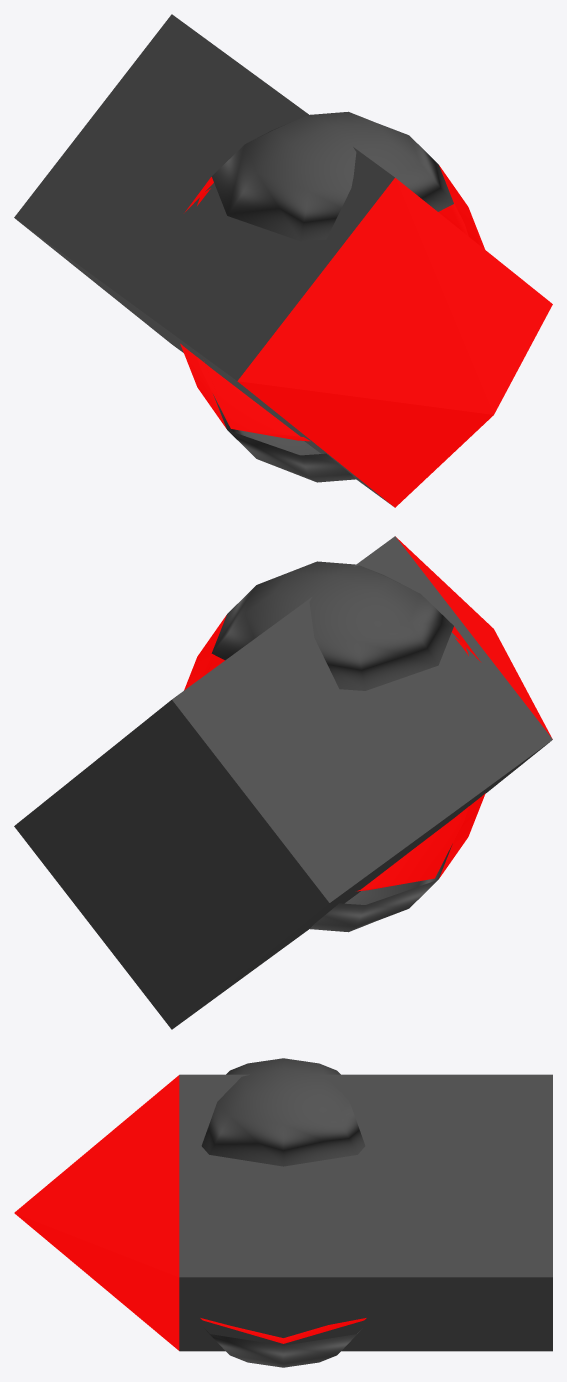
The model's file is projectiles_model.glb.
3 views of the same model, one above another, from view 1: azimuth 30°, elevation 25°; view 2: azimuth 150°, elevation 25°; view 3: azimuth 270°, elevation 25° (orthographic). The views are drawn at different scales.
Visible parts, largest first — view 1: Cylinder, Cube.001, Cube; view 2: Cylinder, Cube.001, Cube; view 3: Cylinder, Cube.001, Cube.
Part boxes in pixels (x1,y1,x2,y2): Cylinder: [14, 14, 552, 507]; Cube.001: [180, 111, 484, 482]; Cube: [197, 188, 468, 441]; Cylinder: [14, 536, 552, 1029]; Cube.001: [184, 561, 485, 932]; Cube: [199, 638, 468, 891]; Cylinder: [14, 1074, 552, 1351]; Cube.001: [201, 1058, 365, 1367]; Cube: [200, 1318, 366, 1343].
Bounding box in the file's own units: 0.5657 × 0.584 × 1.
